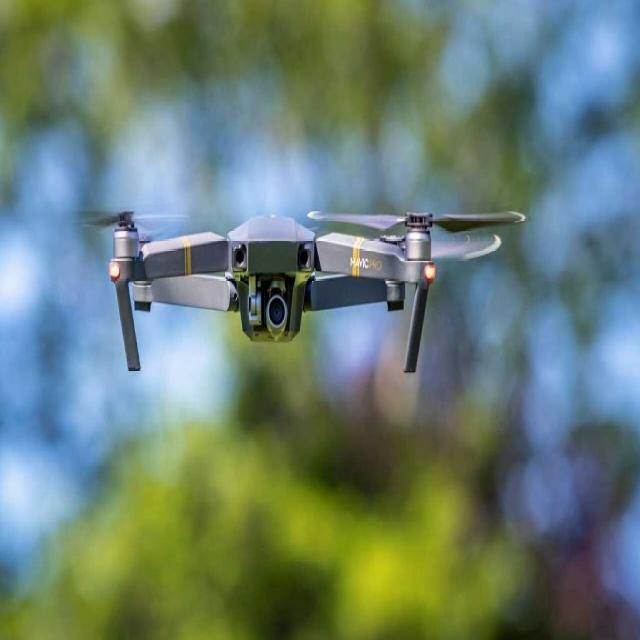drone: (70, 155, 532, 393)
